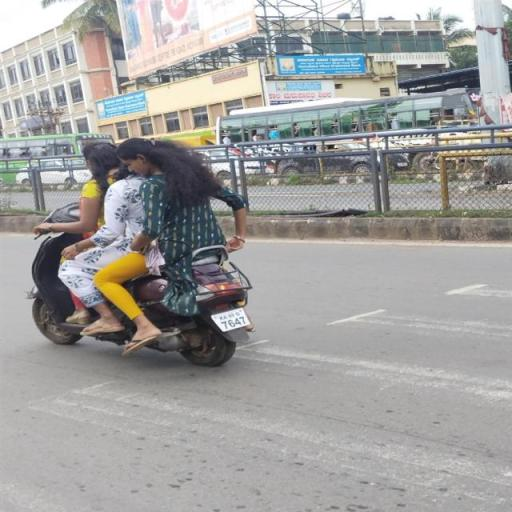tripple riding: (25, 132, 258, 254)
